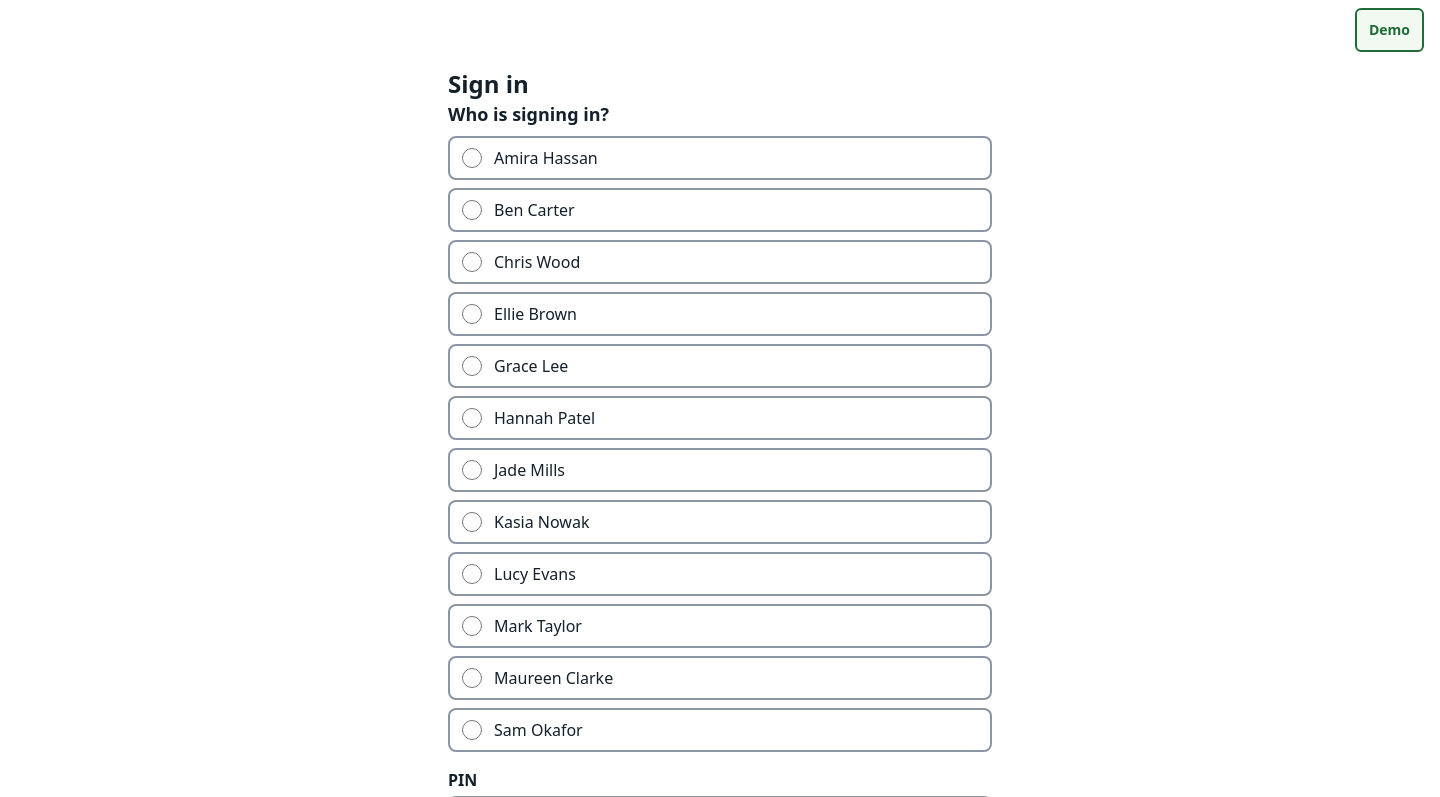
Test: S1 sign in › shows the wrong PIN message to assistive technology as an alert
Click the radio button labelled "Jade Mills". click: (472, 470)
box: [462,460,482,480]
(page scrolled)
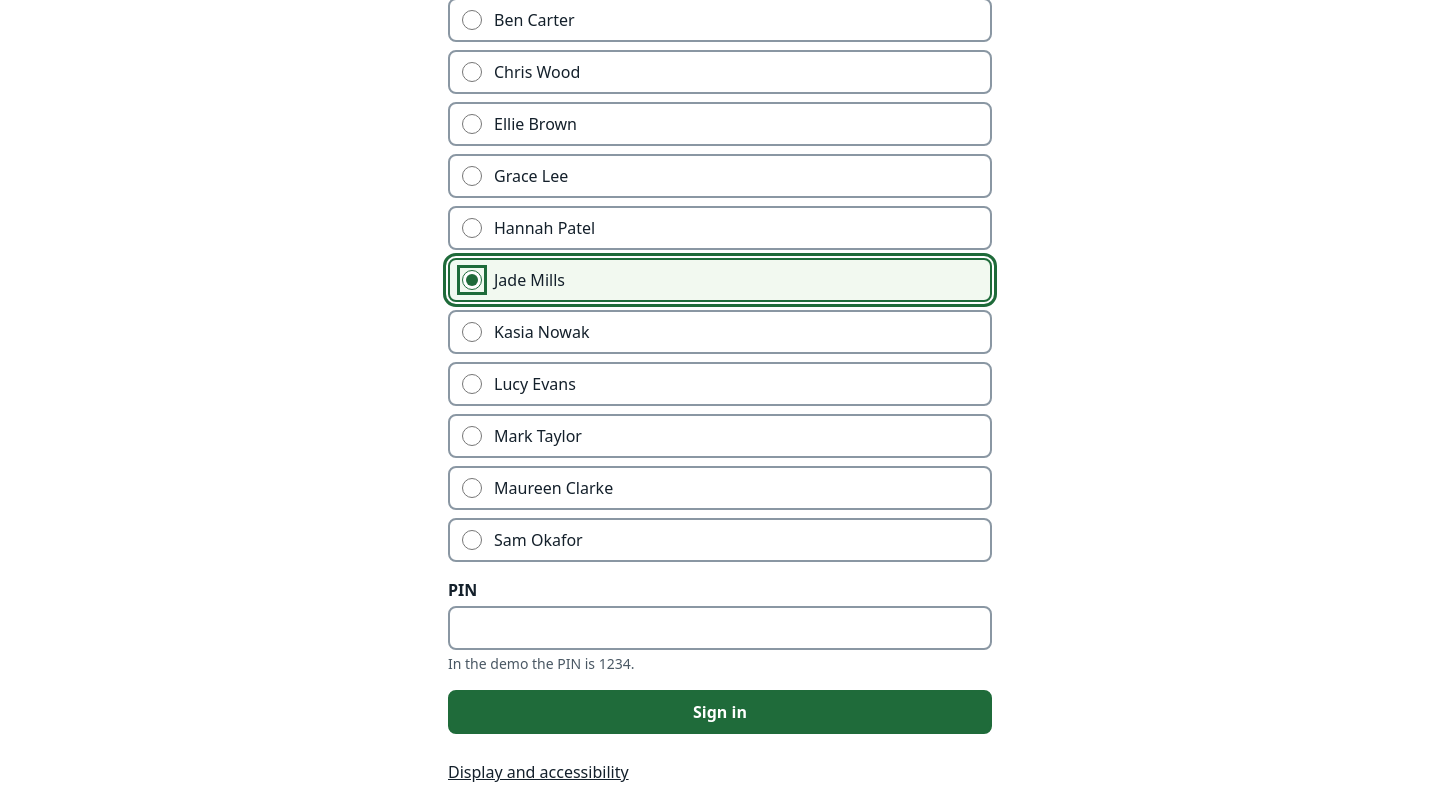
Type "9999" into the password field labelled "PIN". click: (720, 628)
box: [448,606,992,650]
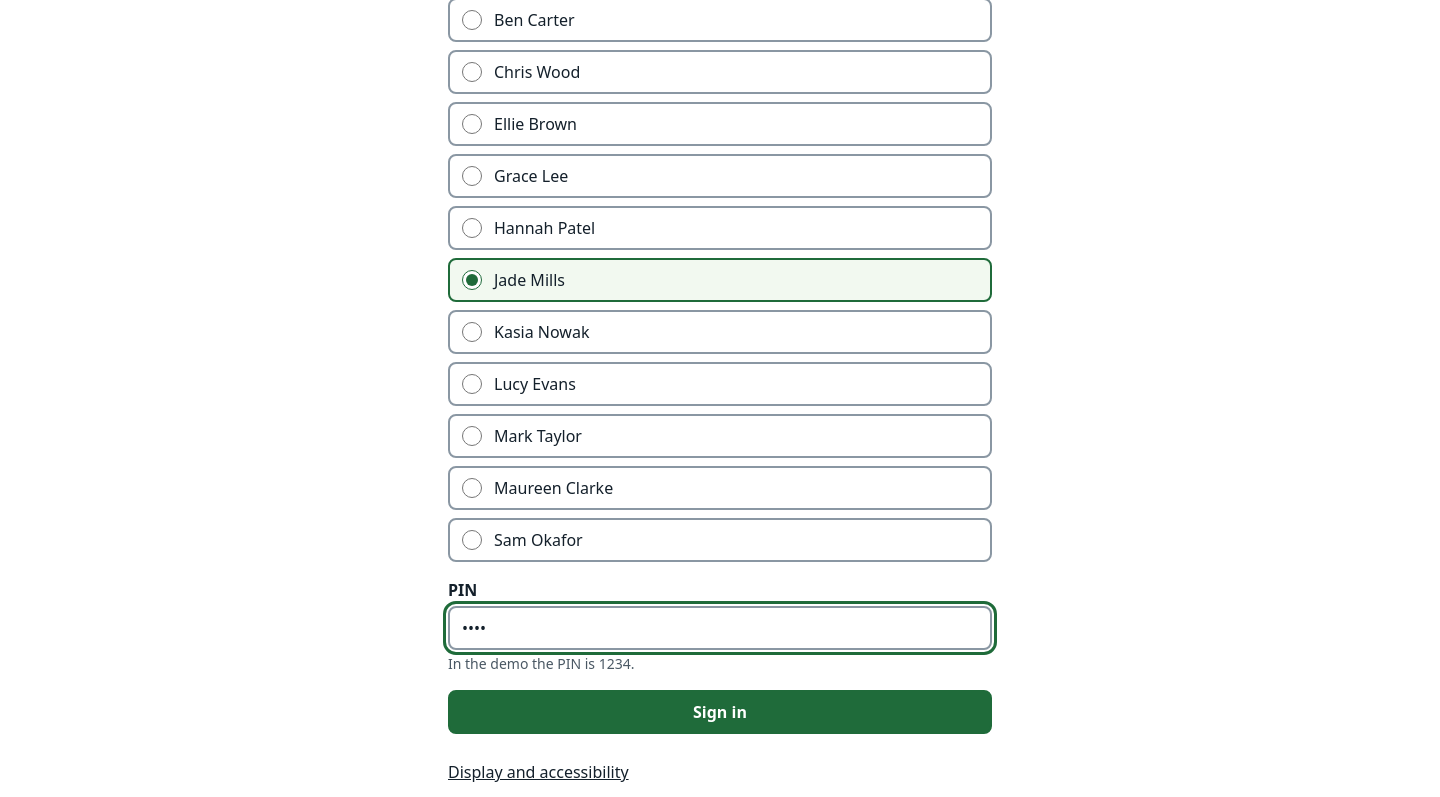
Click the button "Sign in". click: (720, 712)
box: [448,690,992,734]
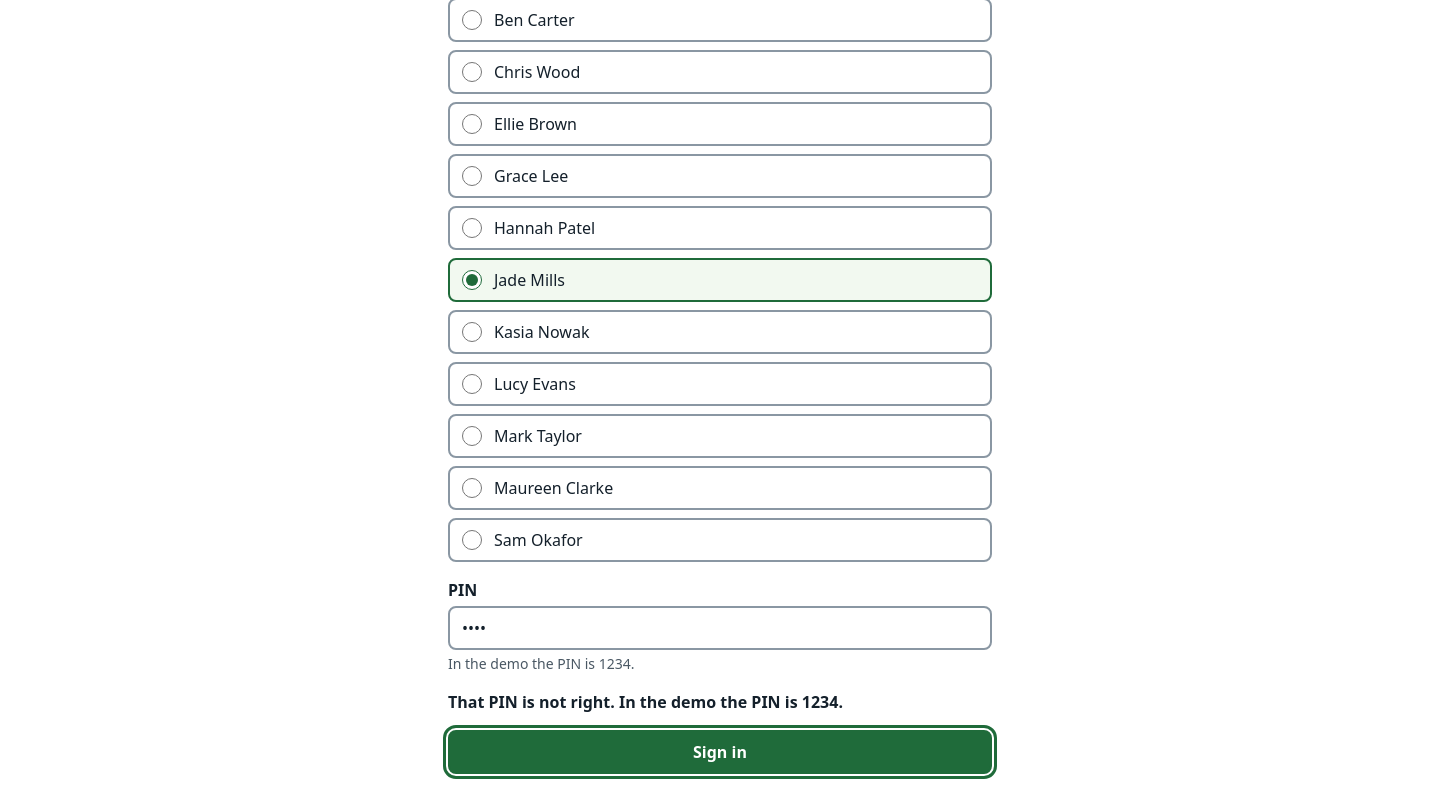
Expected: the message shows "That PIN is not right", [448,691,843,713]
